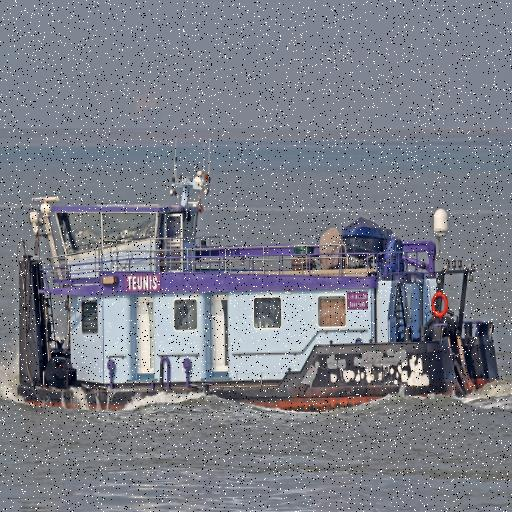tugboat: (13, 165, 505, 426)
